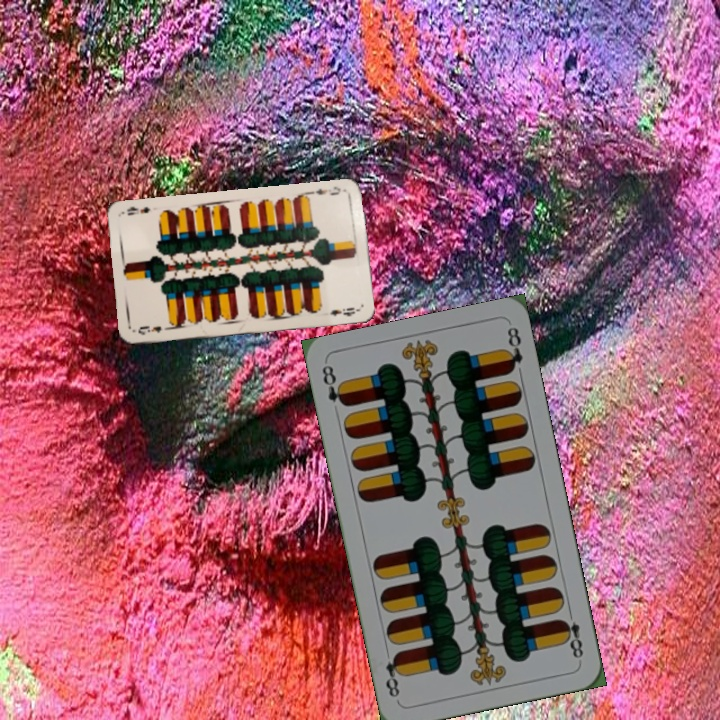E8: (557, 605, 586, 661), (318, 361, 349, 410)
E9: (134, 322, 172, 337), (308, 182, 343, 198)
